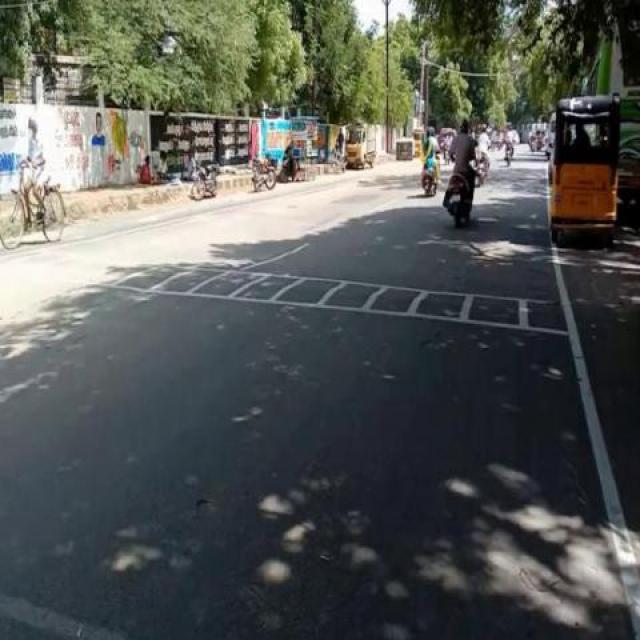Speed Bump: (97, 263, 567, 342)
